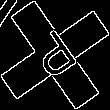P_SE: (25, 24, 85, 86)
